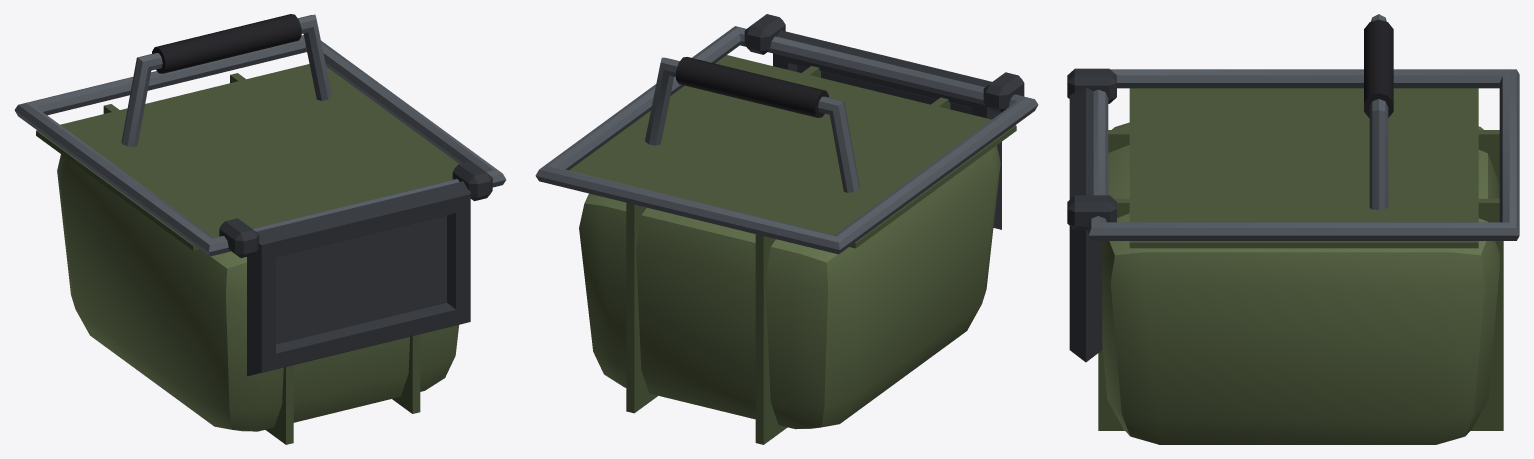
File: addon_bagger.glb
3 renders of one model, left to right at view 1: azimuth 30°, elevation 25°; view 2: azimuth 150°, elevation 25°; view 3: azimuth 270°, elevation 25°, orthographic. The views are drawn at different scales.
Parts seen in each view (by area): view 1: Addon; view 2: Addon; view 3: Addon.
Boxes of the visible parts, x1,y1,x2,y2 form: Addon: (14, 14, 506, 444); Addon: (535, 14, 1038, 444); Addon: (1067, 14, 1519, 444).
Bounding box in the file's own units: 0.612 × 0.605 × 0.726.
